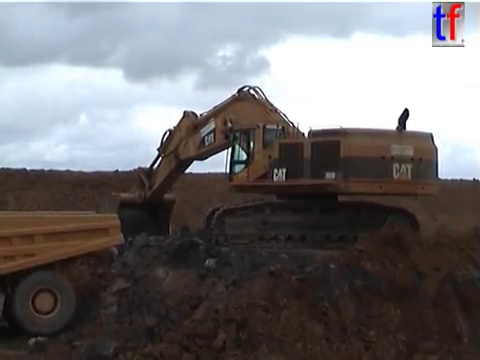excavator: (97, 82, 441, 252)
truck: (1, 207, 127, 337)
